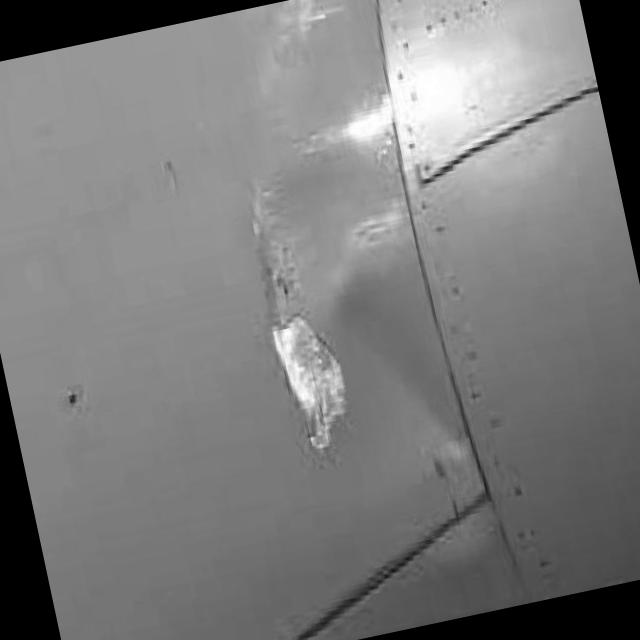dent: (230, 157, 360, 462), (336, 264, 466, 465), (264, 0, 397, 147), (294, 130, 414, 264)
